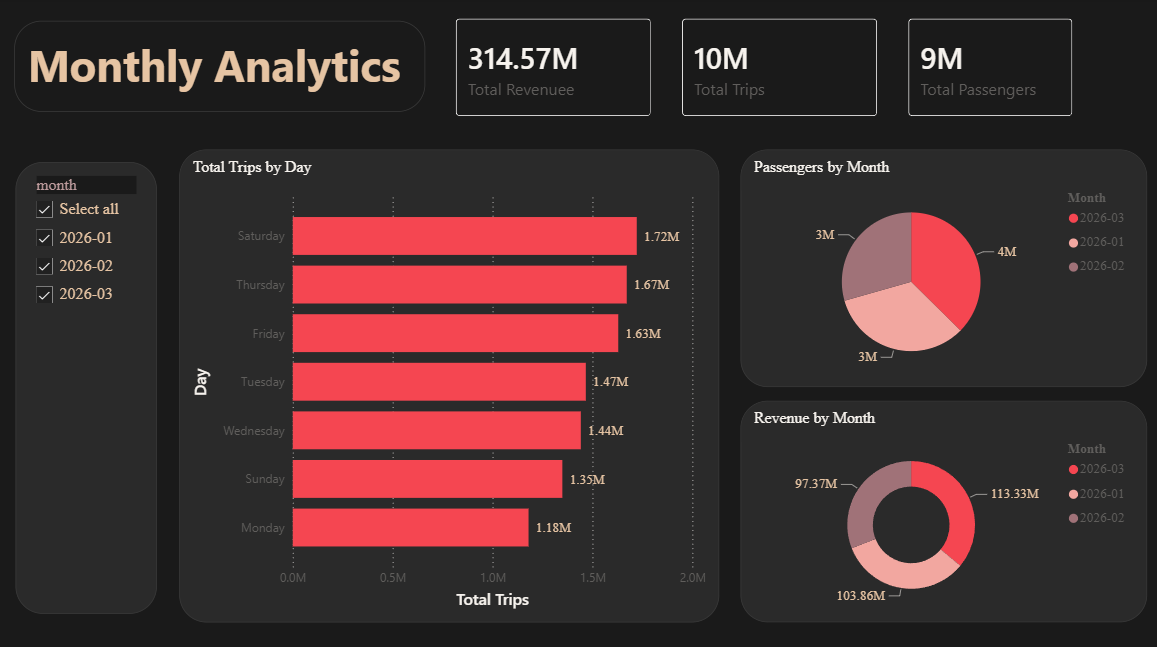

This screenshot's page, from the dashboard's own definition file:
{"tool":"powerbi","page":{"name":"Page 2","canvas":[1280,720],"ordinal":1},"visuals":[{"type":"cardVisual","fields":{"Data":["Sum(monthly_analytics.total_trips)"]},"box":[734.1,6.9,248.4,141.3],"z":0},{"type":"cardVisual","fields":{"Data":["Sum(monthly_analytics.total_revenue)"]},"box":[485.8,6.9,248.4,141.3],"z":1000},{"type":"textbox","box":[17.8,26.7,451.5,100.2],"z":2000},{"type":"cardVisual","fields":{"Data":["Sum(monthly_analytics.total_passengers)"]},"box":[982.5,6.9,214.1,141.3],"z":3000},{"type":"clusteredBarChart","fields":{"Category":["trips_by_day.day_of_week"],"Y":["Sum(trips_by_day.total_trips)"]},"box":[198.7,167.6,593.2,519],"z":4000},{"type":"slicer","fields":{"Values":["monthly_analytics.month"]},"box":[18.5,181,155.4,496],"z":5000},{"type":"donutChart","fields":{"Category":["monthly_analytics.month"],"Y":["Sum(monthly_analytics.total_revenue)"]},"box":[815.6,443.4,446.3,243.2],"z":6000},{"type":"pieChart","fields":{"Category":["monthly_analytics.month"],"Y":["Sum(monthly_analytics.total_passengers)"]},"box":[815.6,167.6,446.3,261],"z":7000}]}

Visuals, with their boxes in screenshot pixels (x1, y1, x2, y2), scaled from the page's 1280x720 canvas onto the 1157x647 screenshot:
cardVisual - Sum(monthly_analytics.total_trips): [664, 6, 888, 133]
cardVisual - Sum(monthly_analytics.total_revenue): [439, 6, 664, 133]
textbox: [16, 24, 424, 114]
cardVisual - Sum(monthly_analytics.total_passengers): [888, 6, 1082, 133]
clusteredBarChart - trips_by_day.day_of_week x Sum(trips_by_day.total_trips): [180, 151, 716, 617]
slicer - monthly_analytics.month: [17, 163, 157, 608]
donutChart - monthly_analytics.month x Sum(monthly_analytics.total_revenue): [737, 398, 1141, 617]
pieChart - monthly_analytics.month x Sum(monthly_analytics.total_passengers): [737, 151, 1141, 385]
